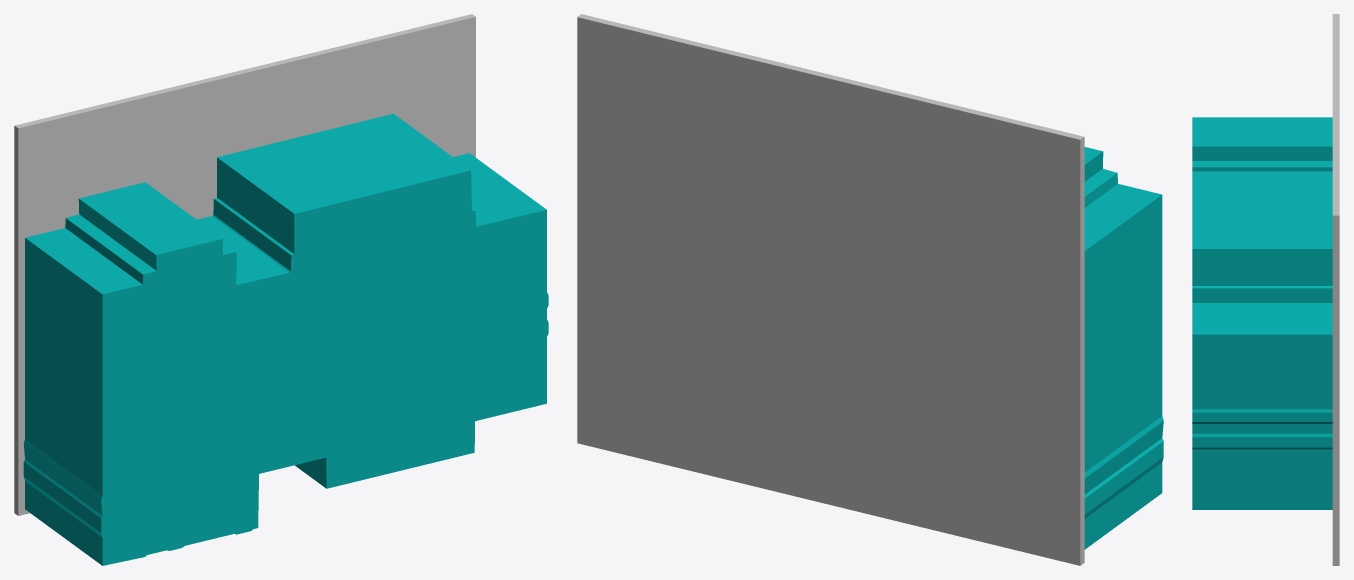
3 renders of one model, left to right at view 1: azimuth 30°, elevation 25°; view 2: azimuth 150°, elevation 25°; view 3: azimuth 270°, elevation 25°, orthographic. The views are drawn at different scales.
Parts seen in each view (by area): view 1: world; view 2: world; view 3: world.
Boxes of the visible parts, x1,y1,x2,y2 form: world: [14, 14, 548, 565]; world: [577, 14, 1163, 565]; world: [1192, 14, 1339, 565].
Bounding box in the file's own units: 10.23 × 8.28 × 3.15.
